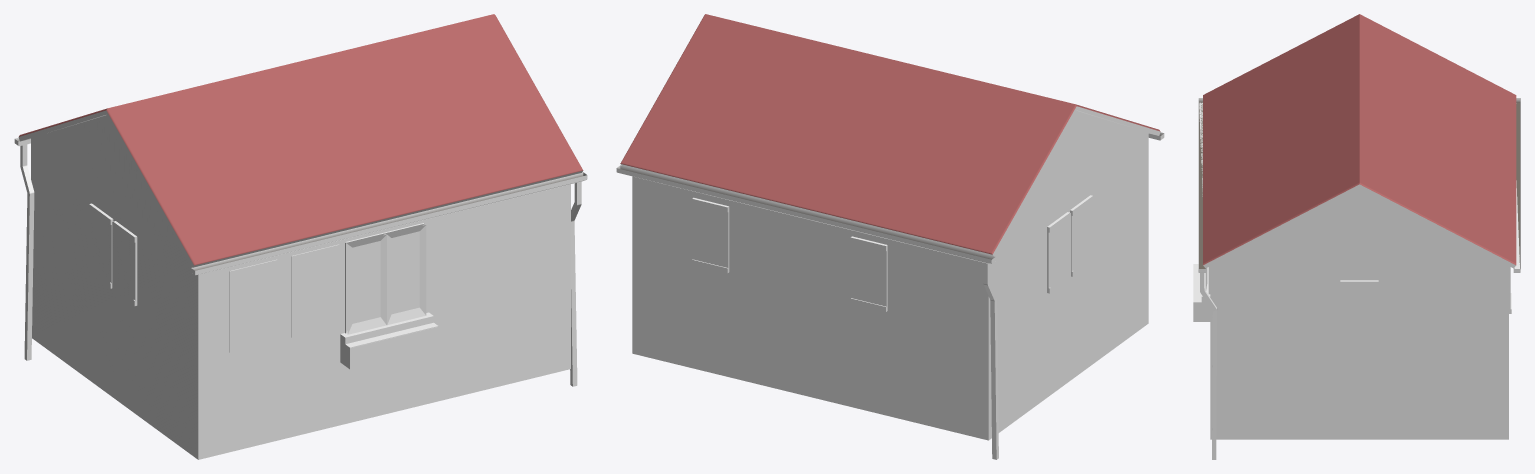
The model's file is eca_bld_store_fish_a.dae.
The picture shows the model from 3 angles, left to right: view 1: azimuth 30°, elevation 25°; view 2: azimuth 150°, elevation 25°; view 3: azimuth 270°, elevation 25°; orthographic projection. The views are drawn at different scales.
Parts seen in each view (by area): view 1: eca_bld_store_fish_a_a400, eca_bld_store_fish_a_a60, eca_bld_store_fish_a_a100, Colmesh-1; view 2: eca_bld_store_fish_a_a400, eca_bld_store_fish_a_a100, eca_bld_store_fish_a_a60, Colmesh-1; view 3: eca_bld_store_fish_a_a400, eca_bld_store_fish_a_a100.
Boxes of the visible parts, x1,y1,x2,y2 form: eca_bld_store_fish_a_a400: (14,14,587,457); eca_bld_store_fish_a_a60: (31,115,570,459); eca_bld_store_fish_a_a100: (18,110,582,458); Colmesh-1: (32,115,570,459); eca_bld_store_fish_a_a400: (616,14,1164,459); eca_bld_store_fish_a_a100: (620,106,1160,440); eca_bld_store_fish_a_a60: (633,111,1148,440); Colmesh-1: (633,111,1137,439); eca_bld_store_fish_a_a400: (1198,14,1520,459); eca_bld_store_fish_a_a100: (1193,184,1515,439).
Size of the model in its own units: 9.48 by 7.68 by 7.18.
